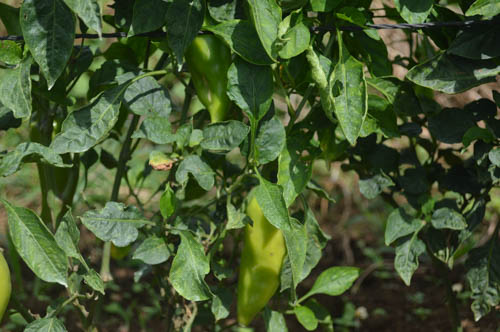ChiliPepper: (237, 200, 287, 330), (187, 35, 230, 125)
